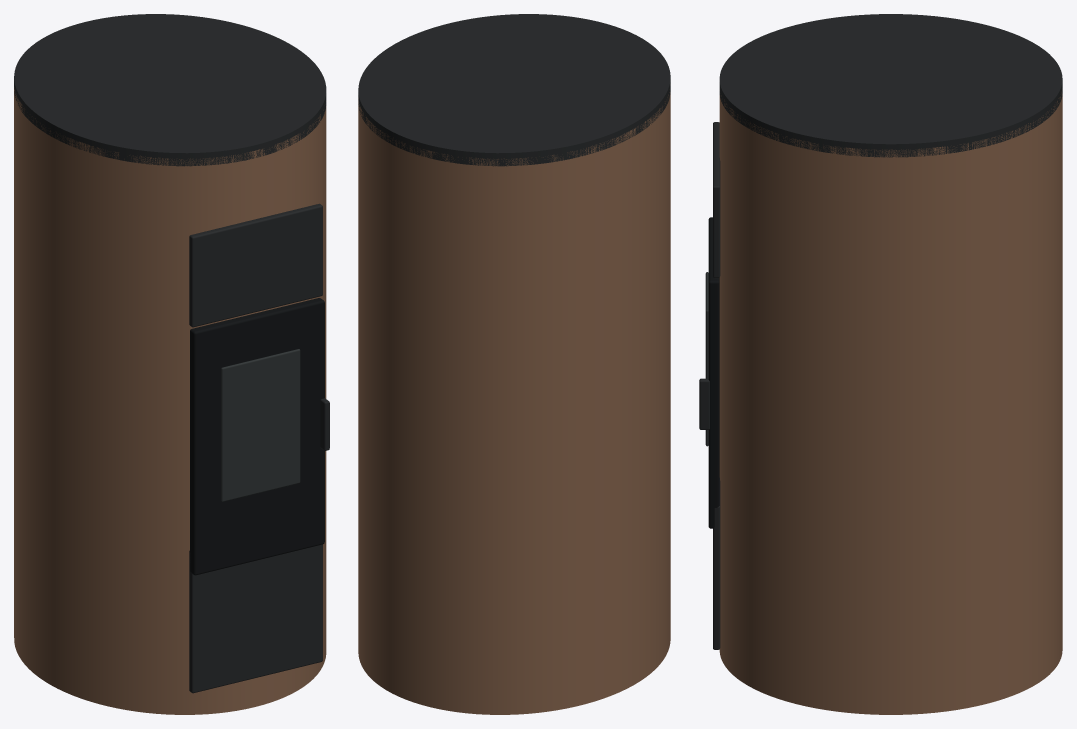
File: ravelli-whisper-7-bronzo.glb
3 views of the same model, side by side, from view 1: azimuth 30°, elevation 25°; view 2: azimuth 150°, elevation 25°; view 3: azimuth 270°, elevation 25° (orthographic).
Parts seen in each view (by area): view 1: Corpo cilindrico, Coperchio.002, Cornice porta.002, Pannello frontale inferiore, Pannello frontale superiore, Vetro sportello.002, Maniglia.002; view 2: Corpo cilindrico, Coperchio.002; view 3: Corpo cilindrico, Coperchio.002, Cornice porta.002, Pannello frontale superiore, Pannello frontale inferiore.
Part boxes in pixels (x1,y1,x2,y2): Corpo cilindrico: (14, 87, 326, 714); Coperchio.002: (14, 14, 326, 166); Cornice porta.002: (190, 298, 324, 575); Pannello frontale inferiore: (189, 544, 322, 693); Pannello frontale superiore: (189, 203, 322, 327); Vetro sportello.002: (221, 349, 300, 501); Maniglia.002: (320, 398, 329, 450); Corpo cilindrico: (358, 92, 670, 714); Coperchio.002: (358, 14, 670, 166); Corpo cilindrico: (719, 92, 1062, 714); Coperchio.002: (719, 14, 1062, 157); Cornice porta.002: (708, 217, 719, 528); Pannello frontale superiore: (713, 122, 720, 278); Pannello frontale inferiore: (713, 478, 720, 649).
Size of the model in its own units: 0.504 by 1.03 by 0.594.
